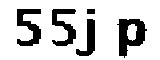5: (10, 4, 44, 52), (44, 3, 79, 47)
j: (78, 6, 103, 60)
p: (114, 15, 148, 60)
